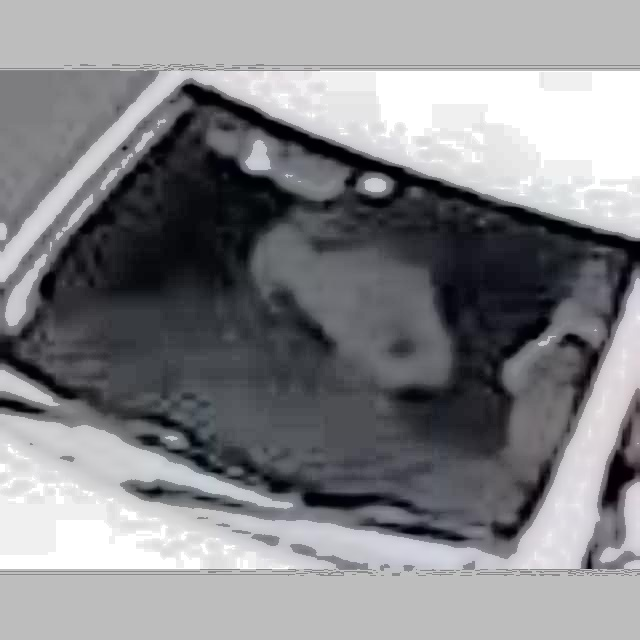tidak-pakai: (189, 186, 451, 415)
